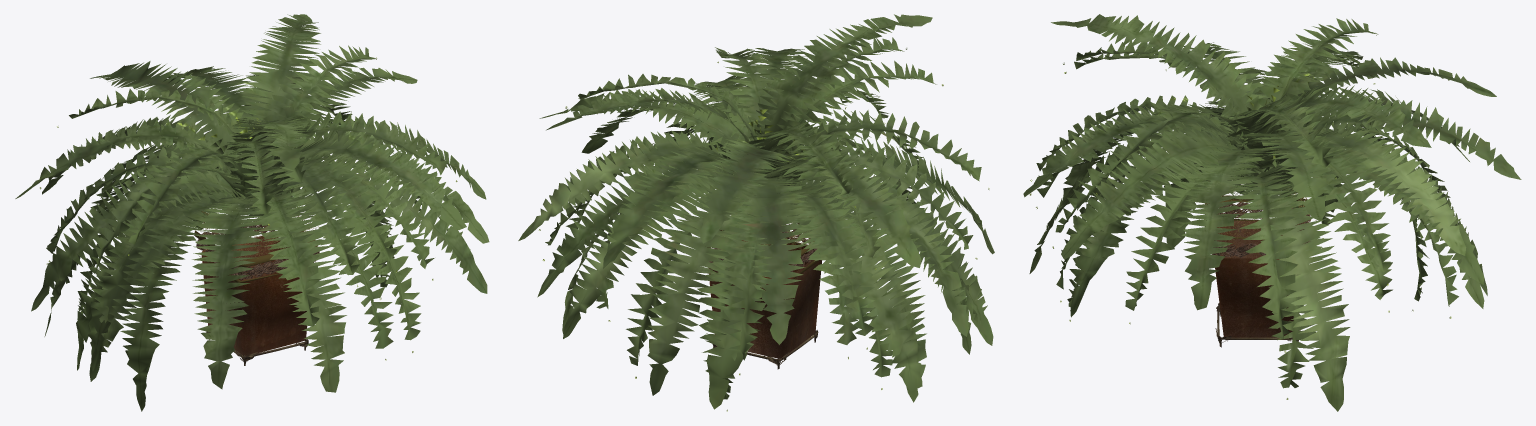
File: lushfern.glb
The picture shows the model from 3 angles, left to right: view 1: azimuth 30°, elevation 25°; view 2: azimuth 150°, elevation 25°; view 3: azimuth 270°, elevation 25°; orthographic projection. The views are drawn at different scales.
Visible parts, largest first — view 1: Modul Leaf C.004, Cube, Modul 02.001, Cube.003; view 2: Modul Leaf C.004, Cube; view 3: Modul Leaf C.004, Cube, Modul 02.001.
Part boxes in pixels (left/top/right/bottom): Modul Leaf C.004: left=15, top=14, right=489, bottom=411; Cube: left=201, top=235, right=307, bottom=355; Modul 02.001: left=196, top=220, right=319, bottom=280; Cube.003: left=194, top=230, right=317, bottom=282; Modul Leaf C.004: left=518, top=14, right=994, bottom=411; Cube: left=708, top=240, right=821, bottom=358; Modul Leaf C.004: left=1023, top=14, right=1521, bottom=411; Cube: left=1215, top=220, right=1300, bottom=337; Modul 02.001: left=1212, top=202, right=1310, bottom=257.
Size of the model in its own units: 0.7204 by 0.4561 by 0.7147.
Materials: 6 (4 with a texture image).
